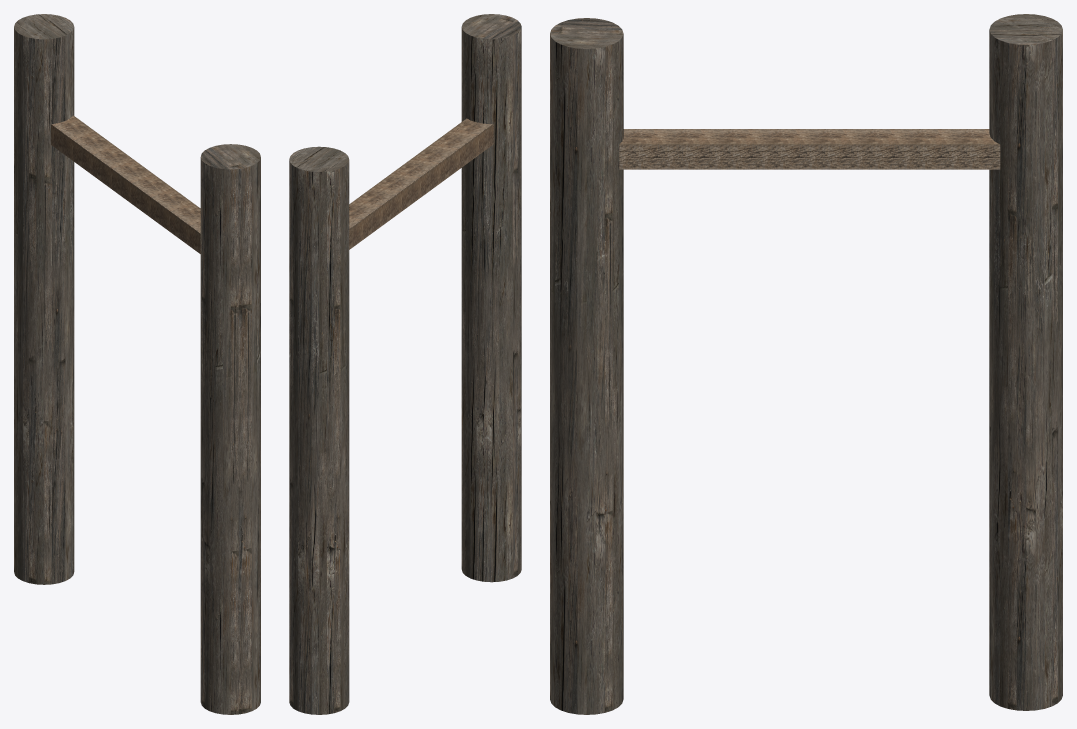
File: poste.fbx
3 renders of one model, left to right at view 1: azimuth 30°, elevation 25°; view 2: azimuth 150°, elevation 25°; view 3: azimuth 270°, elevation 25°, orthographic. The views are drawn at different scales.
Parts seen in each view (by area): view 1: Cylinder.005; view 2: Cylinder.005; view 3: Cylinder.005.
Part boxes in pixels (x1,y1,x2,y2): Cylinder.005: (14, 14, 260, 714); Cylinder.005: (289, 14, 521, 714); Cylinder.005: (550, 14, 1062, 714).
Size of the model in its own units: 67.7 by 600 by 419.
Materials: 2 (2 with a texture image).
